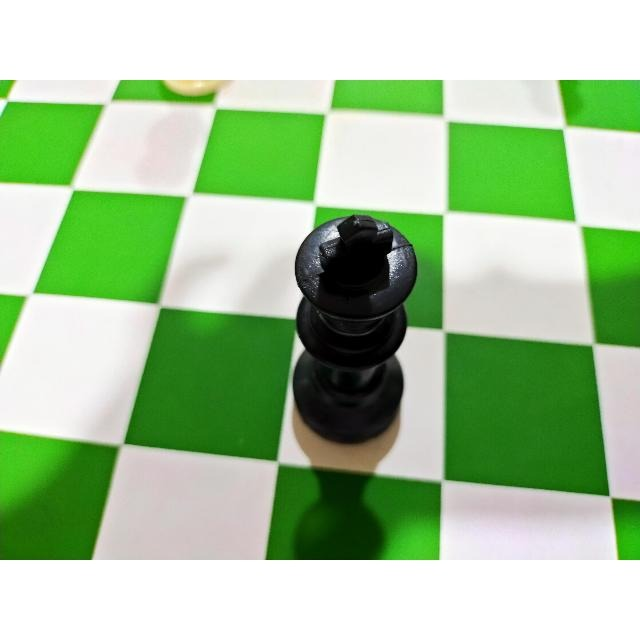black-king: (271, 203, 431, 460)
